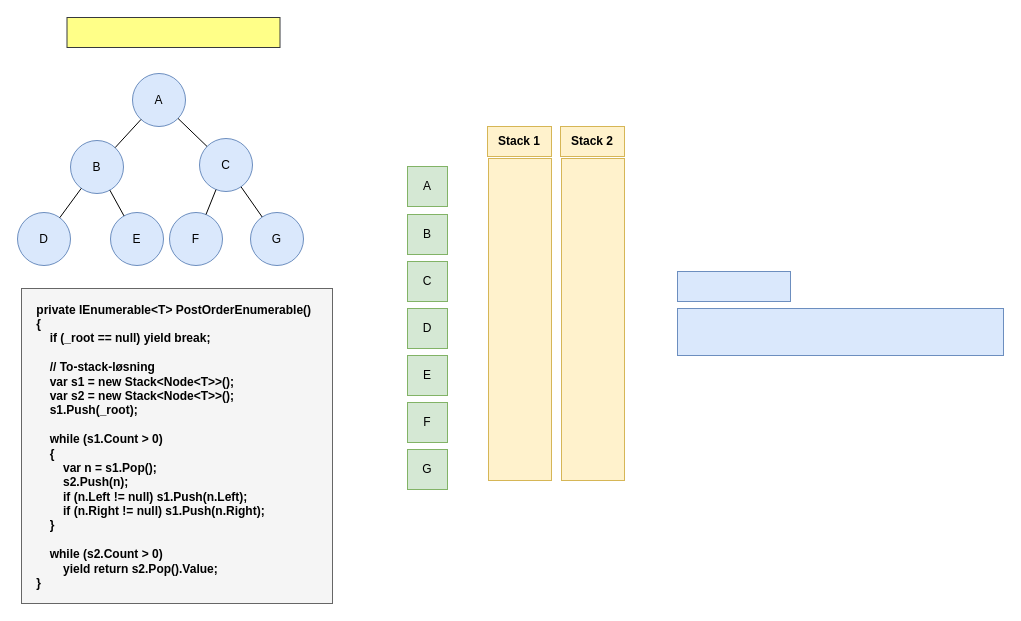
Image size: 1021x621. Some labels were removed from this diagram. Here are the shapes that lost their labels. From the top down, the centre of each, then its label:
the point at 173,32: VENSTRE - HØYRE - ROOT
the point at 733,286: IEnumerable<>
